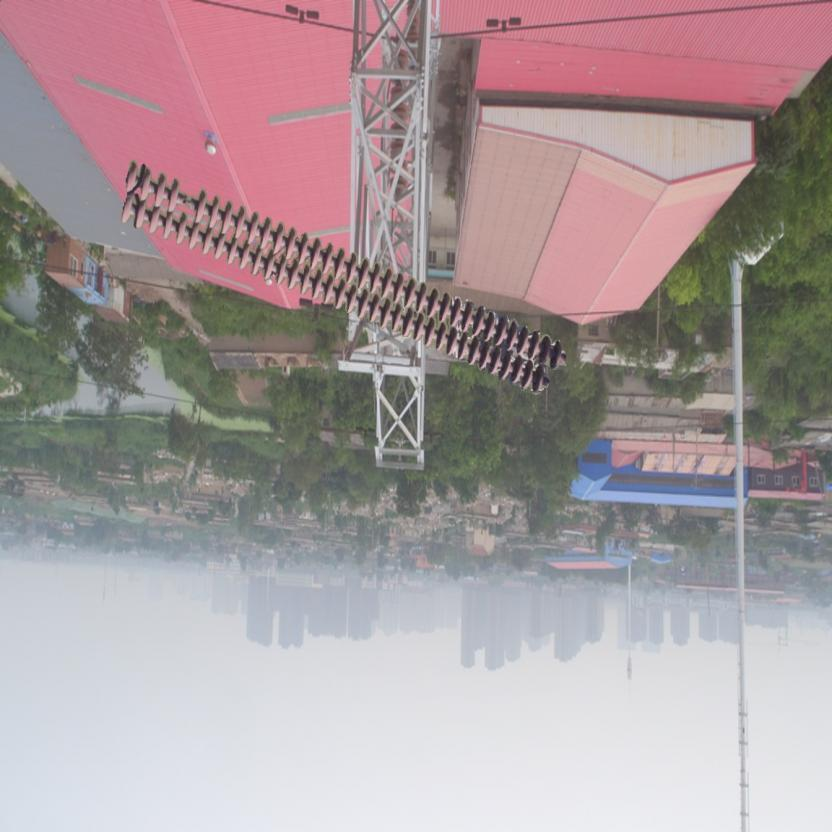defect: (163, 178, 210, 224)
